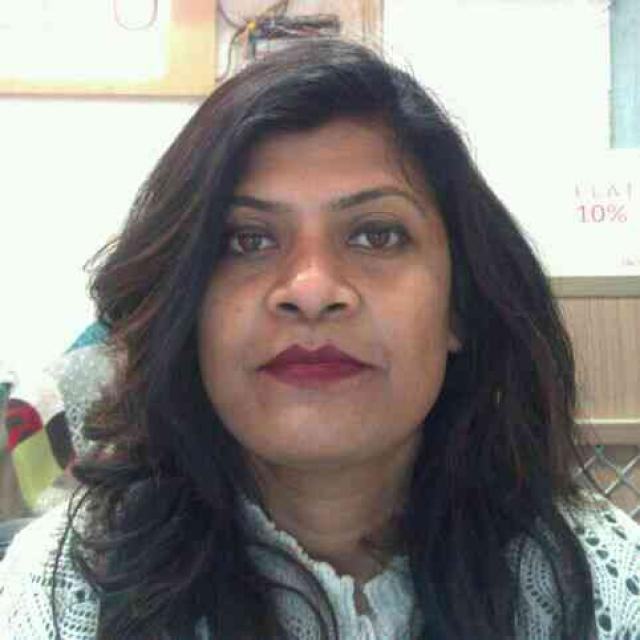Puffy Eyes - v3 Dark Circle: (341, 246, 415, 273), (223, 249, 287, 278)
